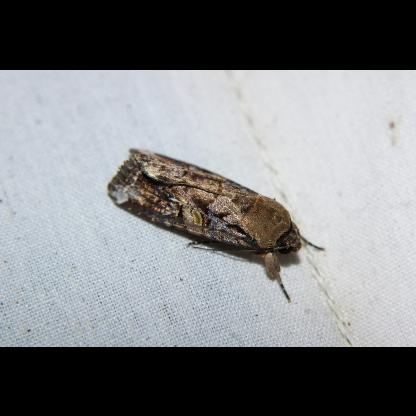Fall Armyworm Moth: (105, 144, 328, 304)
